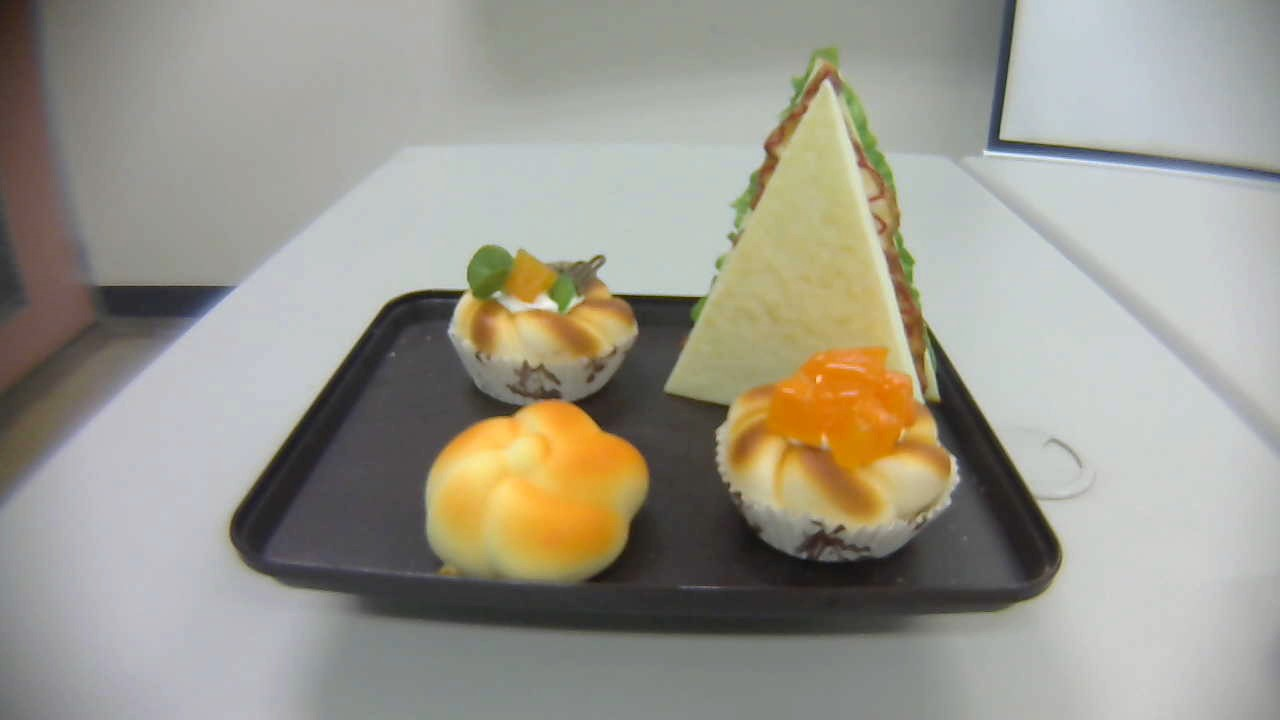fruit tart: (446, 244, 640, 406)
mango tart: (715, 347, 961, 562)
sandwich: (665, 54, 943, 422)
twist bread: (424, 397, 652, 589)
